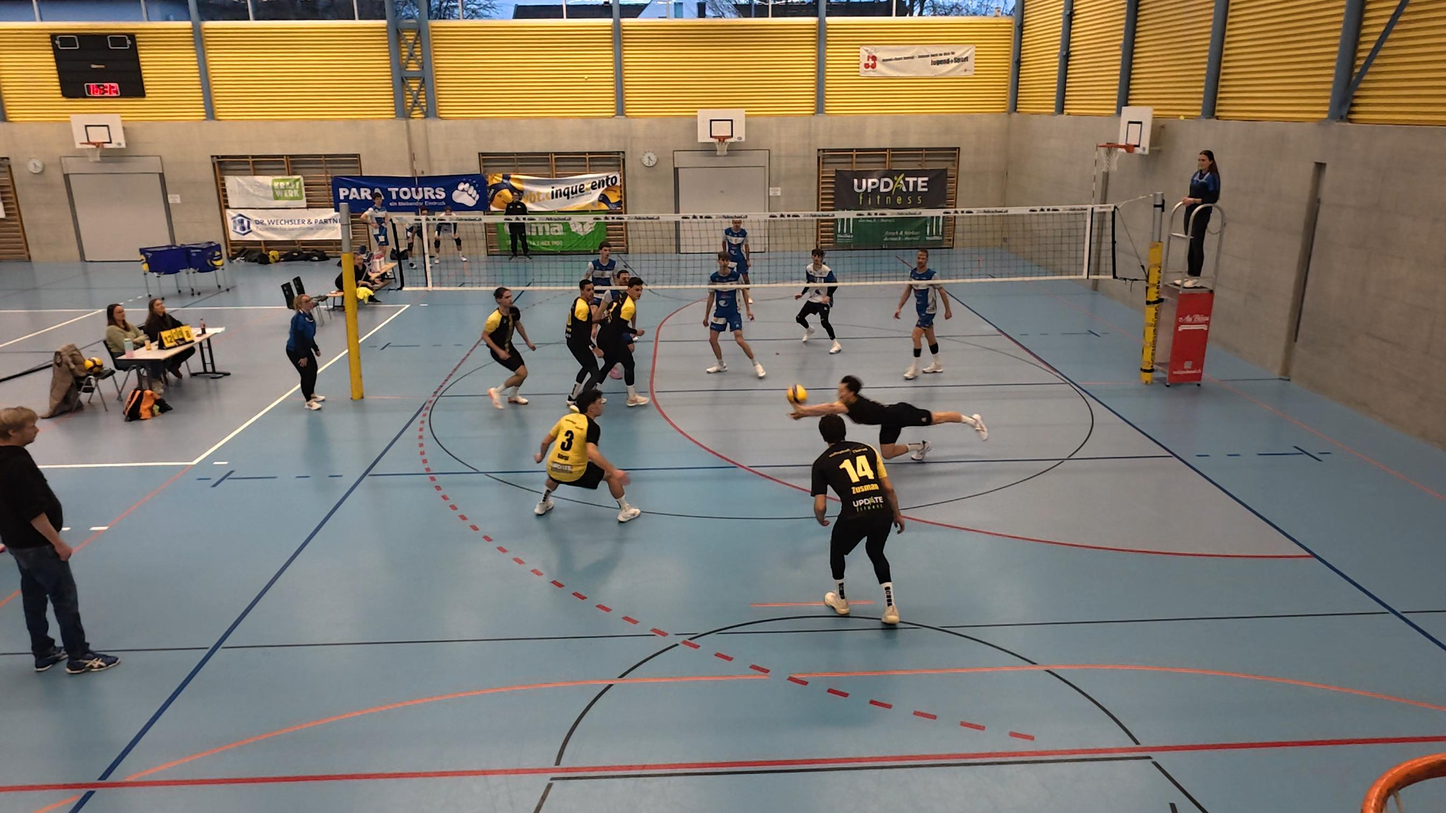Dig: (787, 374, 990, 465)
Player: (808, 413, 903, 627), (531, 388, 641, 522), (696, 251, 769, 381), (596, 276, 648, 406), (564, 278, 617, 405), (480, 287, 533, 409), (895, 262, 950, 379), (792, 248, 841, 351), (719, 213, 758, 296), (586, 232, 620, 295), (596, 268, 628, 308)
ball: (787, 386, 809, 404)
